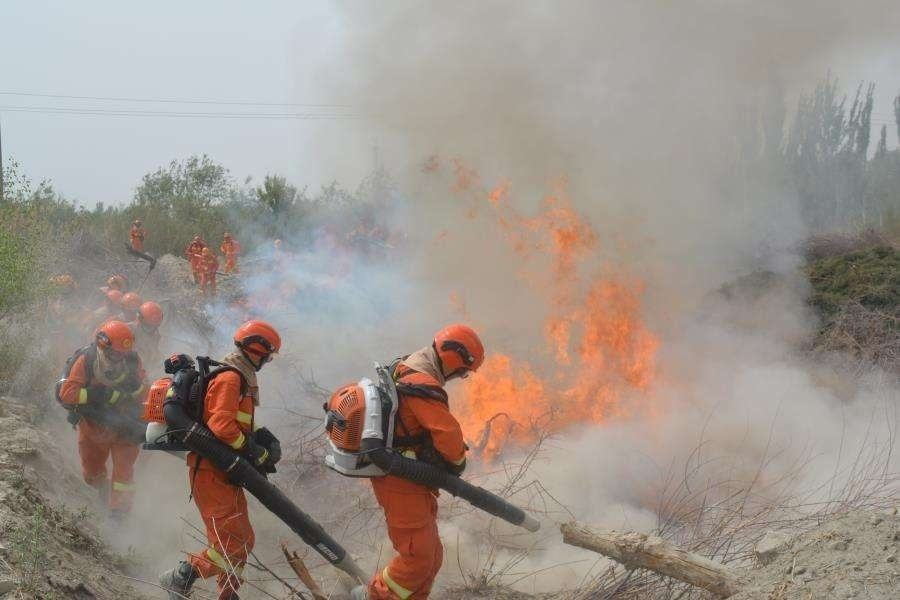fire: (433, 166, 669, 448)
